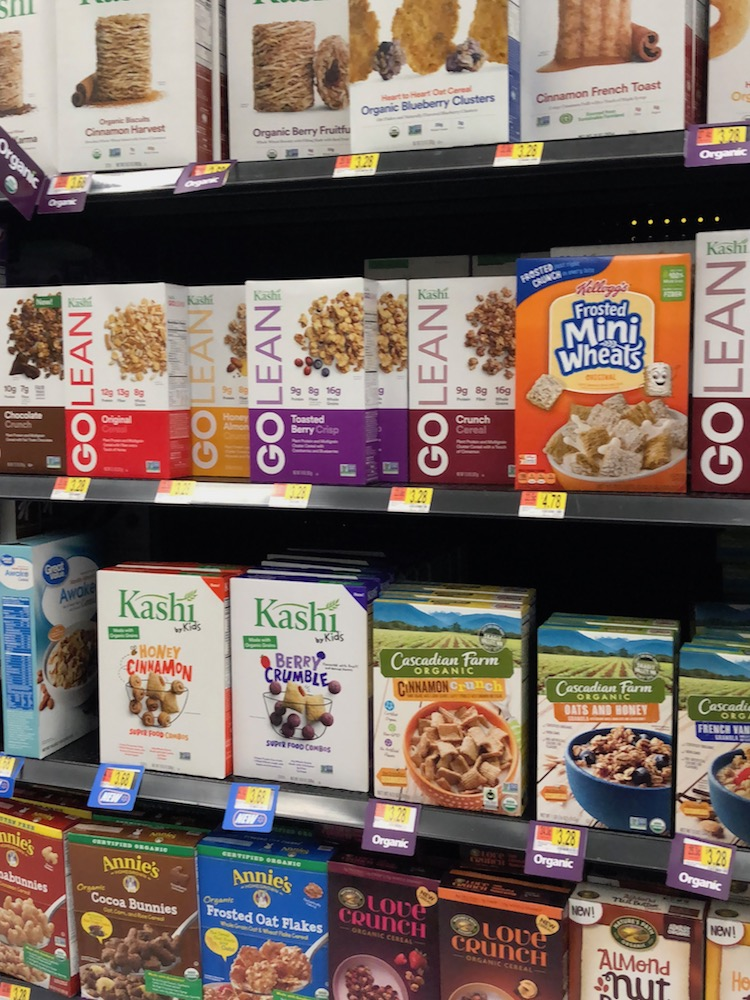Frosted Mini Original -9295869: (517, 268, 685, 479)
